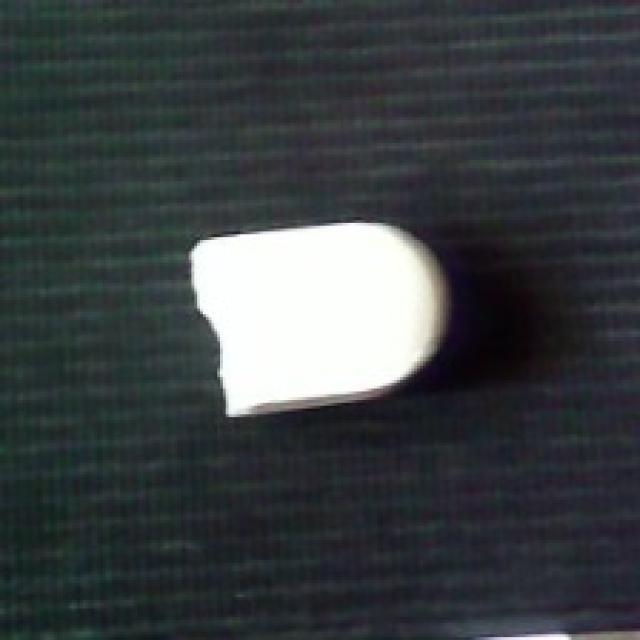defected: (180, 214, 460, 423)
